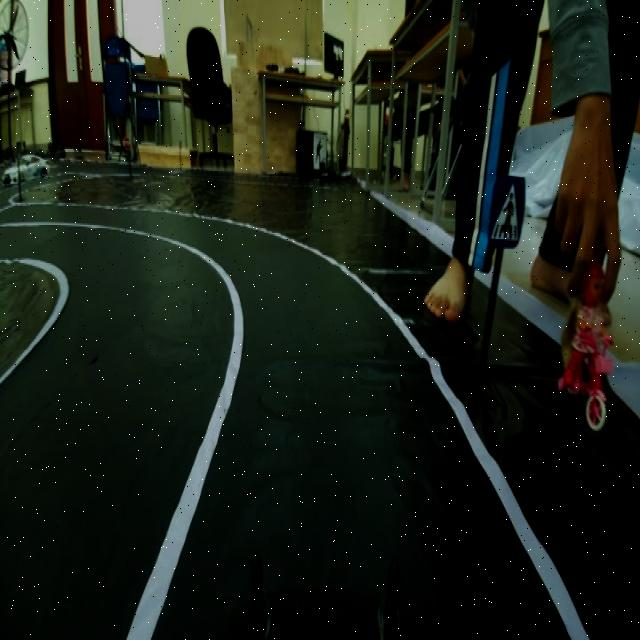crosswalk: (488, 174, 526, 251)
pedestrian: (560, 256, 618, 432)
